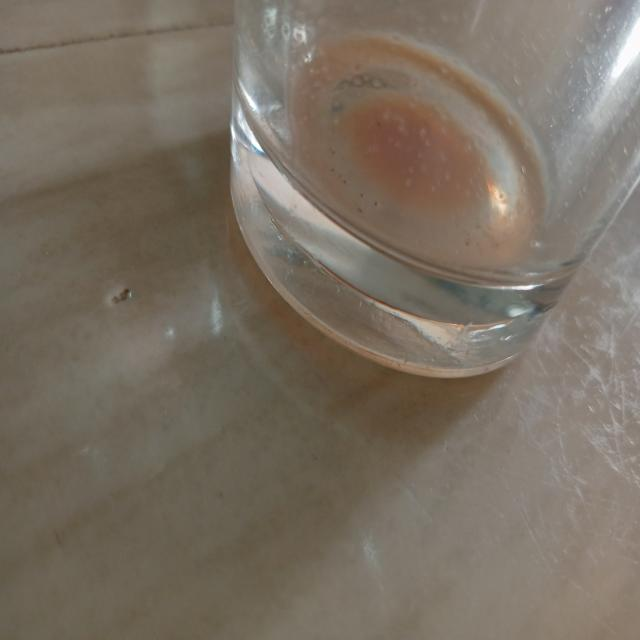glass-VX4N: (230, 0, 640, 378)
